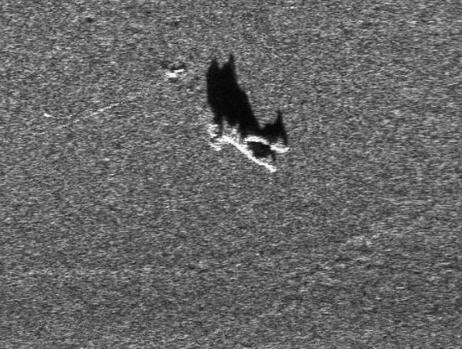man: (206, 114, 291, 176)
